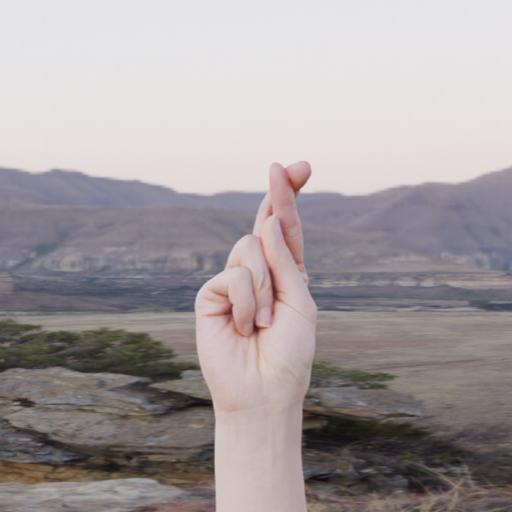R: (183, 146, 328, 416)
